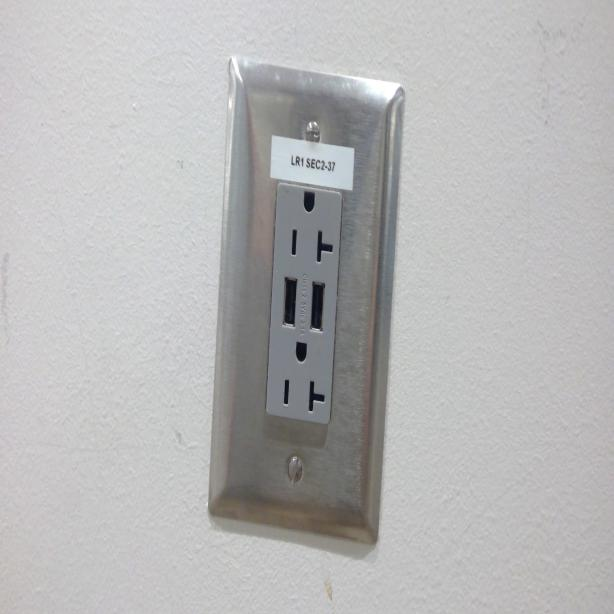typeb: (275, 182, 341, 274), (270, 326, 332, 417)
